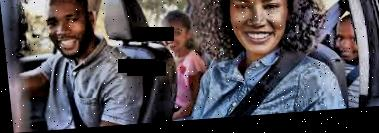seatbelt: (213, 0, 367, 120), (58, 56, 84, 130), (341, 66, 361, 94)
